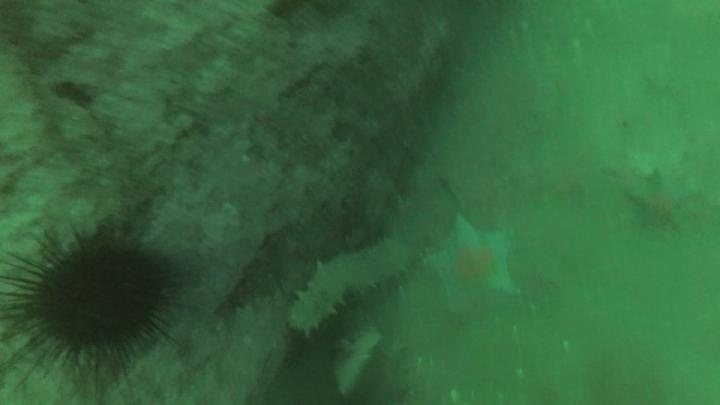echinus: (1, 219, 183, 379)
holothurian: (286, 233, 420, 338)
starfish: (421, 212, 523, 319), (624, 167, 699, 235)
